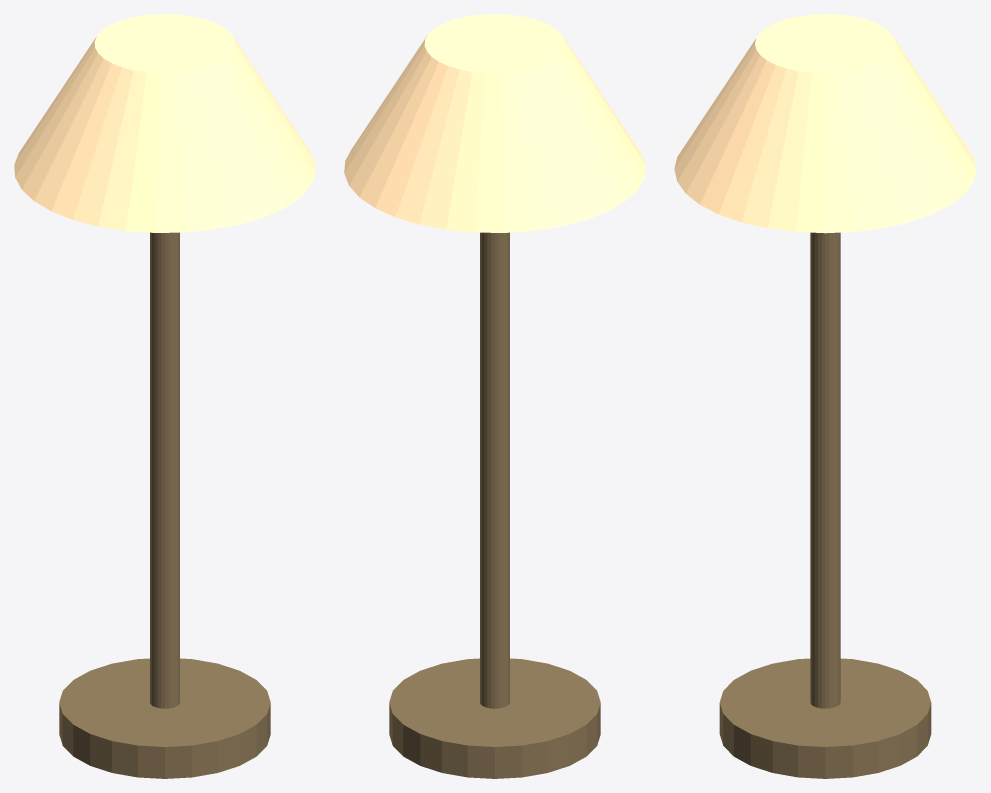
The model's file is living-floor-lamp.glb.
3 renders of one model, left to right at view 1: azimuth 30°, elevation 25°; view 2: azimuth 150°, elevation 25°; view 3: azimuth 270°, elevation 25°, orthographic.
Visible parts, largest first — view 1: 暖色灯罩, 立灯底座, 立灯灯杆; view 2: 暖色灯罩, 立灯底座, 立灯灯杆; view 3: 暖色灯罩, 立灯底座, 立灯灯杆.
Boxes of the visible parts, x1,y1,x2,y2 form: 暖色灯罩: (14, 14, 315, 232); 立灯底座: (59, 658, 270, 778); 立灯灯杆: (150, 232, 179, 708); 暖色灯罩: (344, 14, 645, 232); 立灯底座: (389, 658, 600, 778); 立灯灯杆: (480, 232, 509, 708); 暖色灯罩: (674, 14, 976, 233); 立灯底座: (719, 658, 931, 778); 立灯灯杆: (810, 232, 840, 708).
Size of the model in its own units: 1.2 by 3.03 by 1.2.
